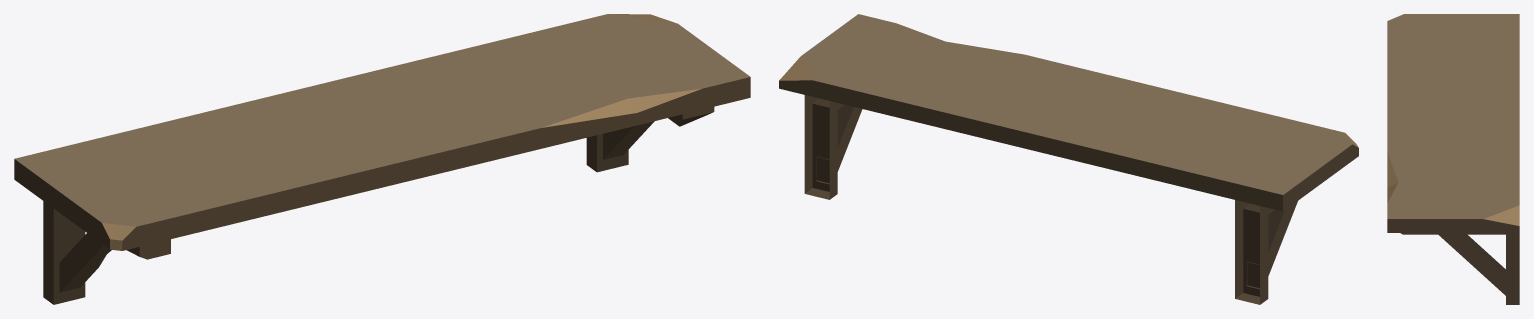
The model's file is SM_Prop_Shelf_01.fbx.
The picture shows the model from 3 angles, left to right: view 1: azimuth 30°, elevation 25°; view 2: azimuth 150°, elevation 25°; view 3: azimuth 270°, elevation 25°; orthographic projection. The views are drawn at different scales.
Parts seen in each view (by area): view 1: SM_Prop_Shelf_01; view 2: SM_Prop_Shelf_01; view 3: SM_Prop_Shelf_01.
Part boxes in pixels (<box>): SM_Prop_Shelf_01: <box>14,14,750,304</box>; SM_Prop_Shelf_01: <box>779,14,1358,304</box>; SM_Prop_Shelf_01: <box>1387,14,1519,304</box>.
Size of the model in its own units: 1.6 by 0.3511 by 0.4375.
1 material, 1 textured.
